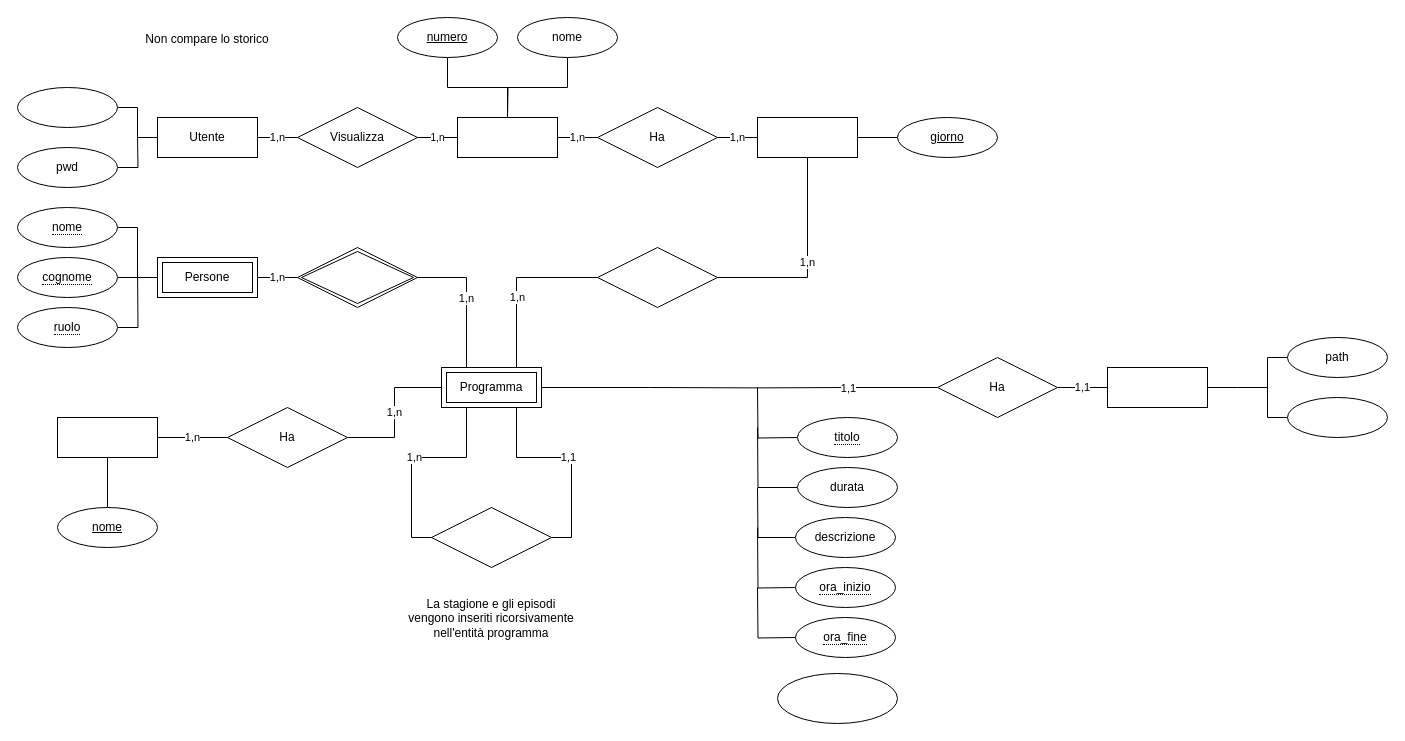
Image size: 1405x741. Some labels were removed from this diagram. The box of each missing label's shape, as (x1, y1, x2, y2) in pixels:
Canale: (456, 116, 558, 158)
Comprende: (596, 246, 718, 308)
data_pubblicazione: (776, 672, 898, 724)
Diviso In: (430, 506, 552, 568)
email: (16, 86, 118, 128)
Genere: (56, 416, 158, 458)
immagine: (1286, 396, 1388, 438)
link: (1106, 366, 1208, 408)
Palinsesto: (756, 116, 858, 158)
Partecipano: (296, 246, 418, 308)
